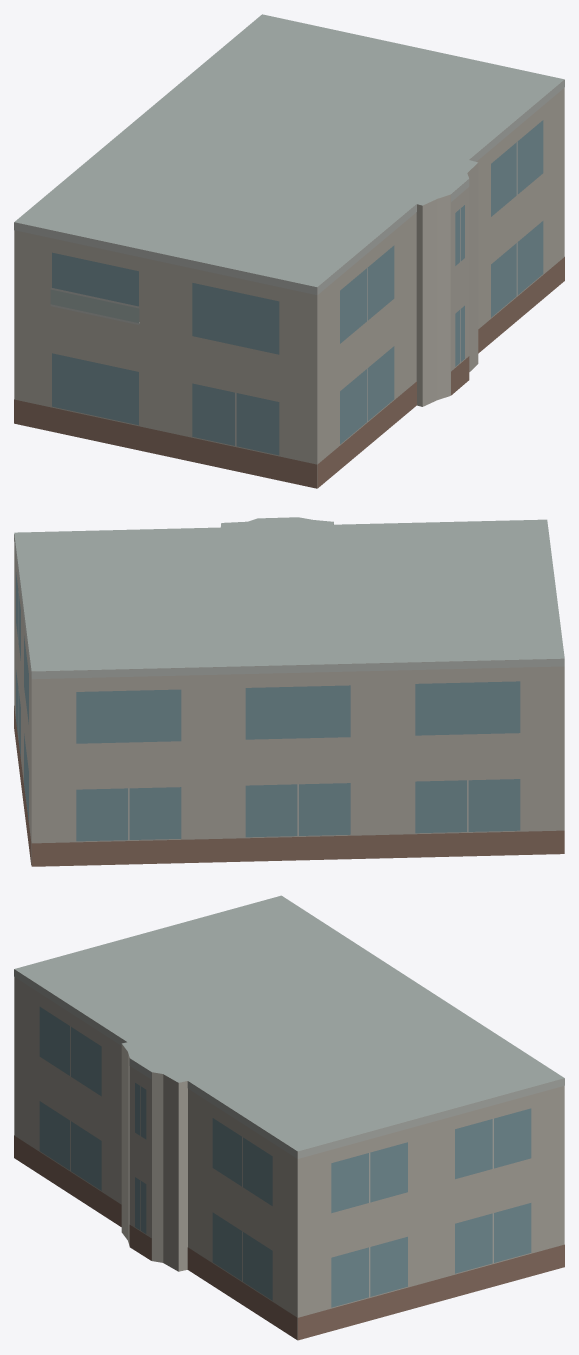
Rendered from survey-upis-32922673.glb.
The picture shows the model from 3 angles, top to bottom: view 1: azimuth 30°, elevation 25°; view 2: azimuth 150°, elevation 25°; view 3: azimuth 270°, elevation 25°; orthographic projection. The views are drawn at different scales.
Parts seen in each view (by area): view 1: survey-upis-32922673.tmp; view 2: survey-upis-32922673.tmp; view 3: survey-upis-32922673.tmp.
Part boxes in pixels (x1,y1,x2,y2): survey-upis-32922673.tmp: (14, 14, 564, 488); survey-upis-32922673.tmp: (14, 517, 564, 866); survey-upis-32922673.tmp: (14, 895, 564, 1340).
Bounding box in the file's own units: 17.74 × 6.1 × 16.13.
